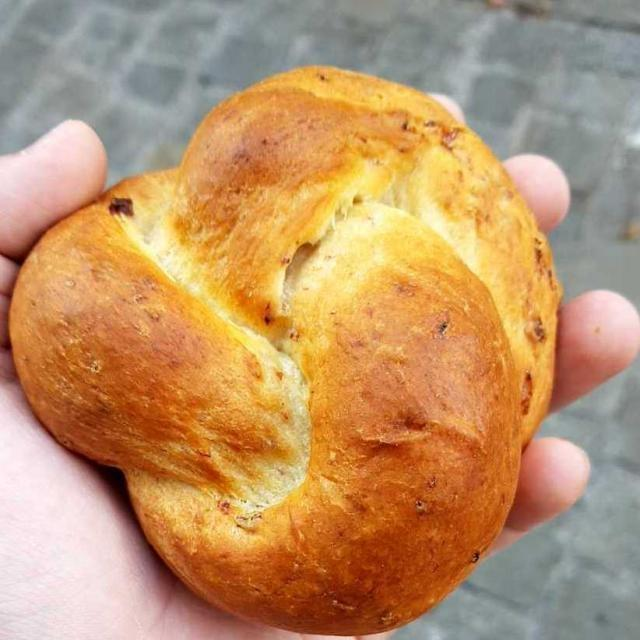bread: (46, 78, 521, 600)
